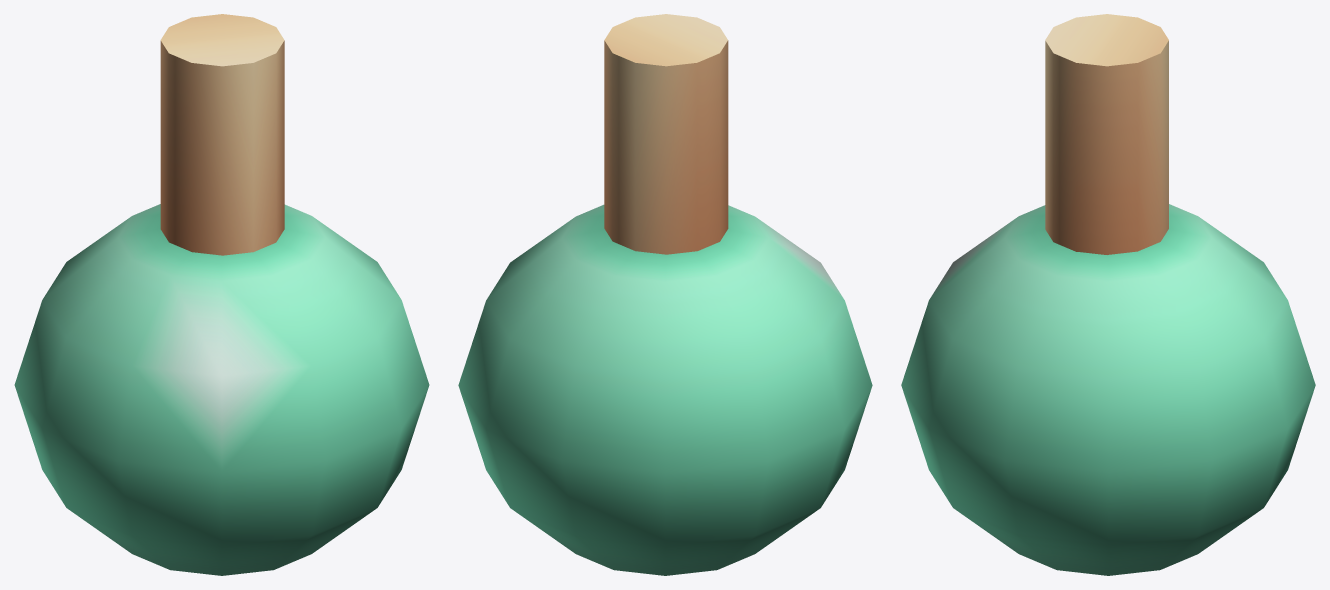
The model's file is Doll_OB_Vanity_002.FBX.
3 views of the same model, side by side, from view 1: azimuth 30°, elevation 25°; view 2: azimuth 150°, elevation 25°; view 3: azimuth 270°, elevation 25° (orthographic).
Visible parts, largest first — view 1: Doll_OB_Vanity_002; view 2: Doll_OB_Vanity_002; view 3: Doll_OB_Vanity_002.
Part boxes in pixels (<box>): Doll_OB_Vanity_002: <box>14,14,429,575</box>; Doll_OB_Vanity_002: <box>458,14,872,575</box>; Doll_OB_Vanity_002: <box>901,14,1315,575</box>.
Bounding box in the file's own units: 4.86 × 6.66 × 4.86.
1 material, 1 textured.
